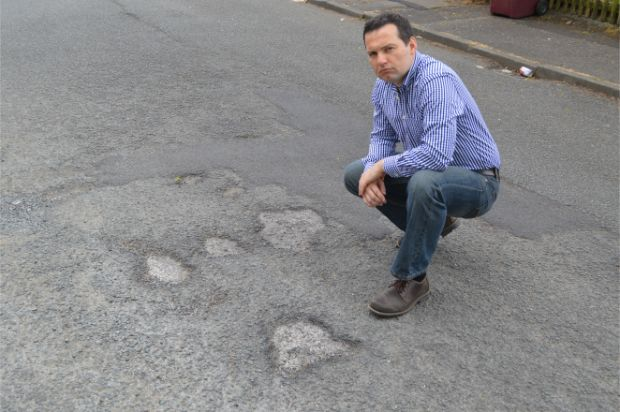pothole: (262, 306, 359, 373), (252, 202, 327, 252), (136, 245, 197, 284), (199, 234, 249, 260)
